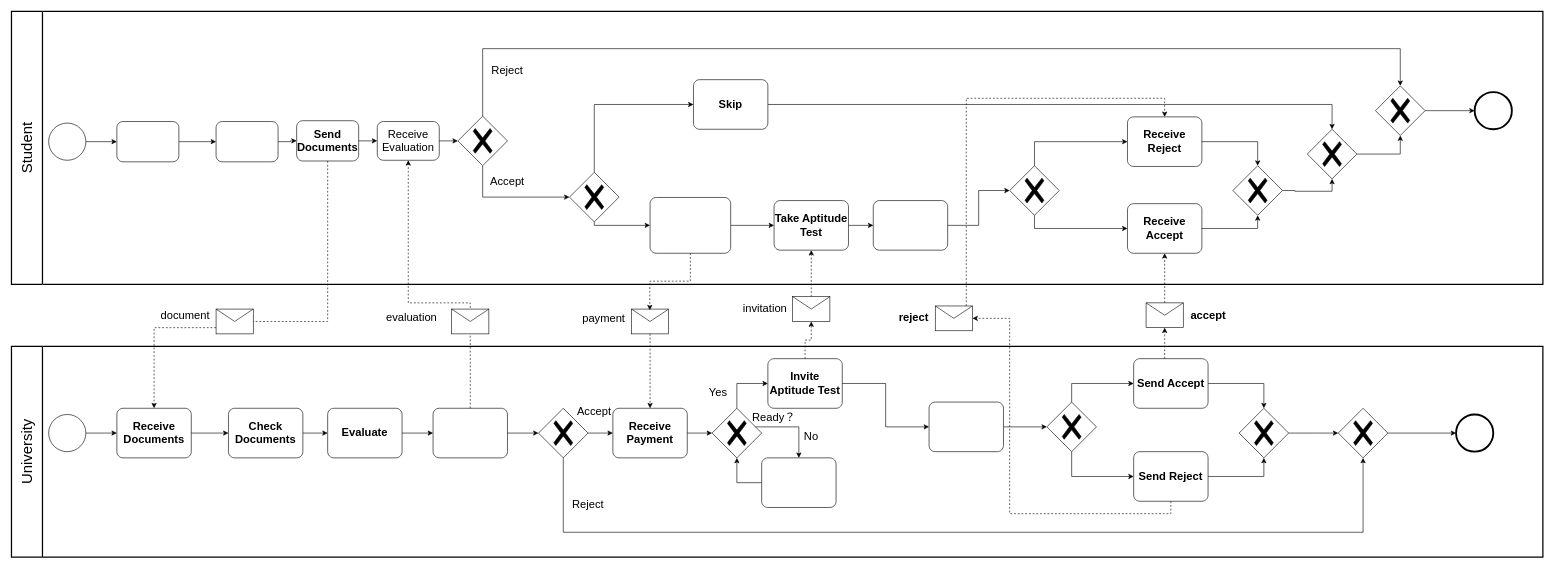
Some shapes in this 1554 by 568 pixel diagram are drawn without their labels. Each missing label, with the centre of its shape:
Apply Online: the point at 147,141
Keep Applicant Pool: the point at 798,482
Online Protocal: the point at 246,141
Pay Aptitude Test: the point at 690,225
Rank: the point at 965,426
Send Evaluation: the point at 469,433
Wait Results: the point at 910,225
